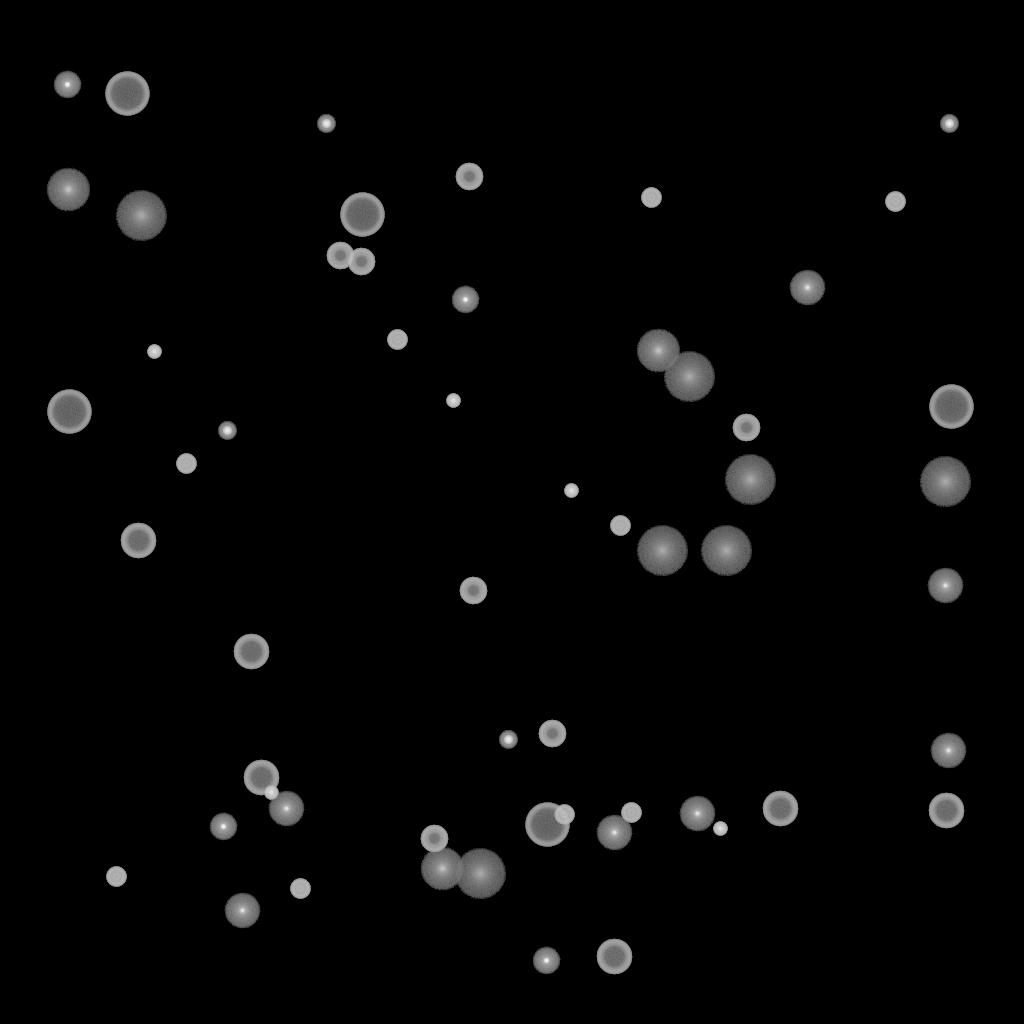depth:-10: (532, 947, 560, 975), (209, 813, 237, 841), (451, 286, 479, 314), (53, 71, 81, 99)
depth:-20: (317, 115, 335, 133), (499, 731, 517, 749), (940, 115, 958, 133), (218, 422, 236, 440)
depth:-30: (713, 822, 727, 836), (264, 786, 278, 800), (564, 484, 578, 498), (446, 394, 460, 408), (147, 345, 161, 359)
depth:-40: (610, 516, 630, 536), (387, 330, 407, 350), (554, 805, 574, 825), (290, 879, 310, 899), (176, 454, 196, 474), (641, 188, 661, 208), (885, 192, 905, 212), (106, 867, 126, 887), (621, 803, 641, 823)
depth:-50: (420, 825, 448, 853), (732, 414, 760, 442), (459, 577, 487, 605), (538, 720, 566, 748), (326, 242, 354, 270), (455, 163, 483, 191), (347, 248, 375, 276)
depth:-60: (928, 793, 964, 829), (596, 939, 632, 975), (120, 523, 156, 559), (233, 634, 269, 670), (243, 760, 279, 796), (762, 791, 798, 827)
depth:-70: (105, 72, 149, 116), (929, 385, 973, 429), (525, 803, 569, 847), (47, 390, 91, 434), (340, 193, 384, 237)
depth:0: (930, 733, 966, 769), (679, 796, 715, 832), (596, 815, 632, 851), (789, 270, 825, 306), (224, 893, 260, 929), (268, 791, 304, 827), (927, 568, 963, 604)
depth:10: (636, 329, 680, 373), (420, 847, 464, 891), (46, 168, 90, 212)
depth:20: (919, 457, 971, 507), (700, 526, 752, 576), (663, 352, 715, 402), (115, 191, 167, 241), (724, 455, 776, 505), (636, 526, 688, 576), (454, 849, 506, 899)
